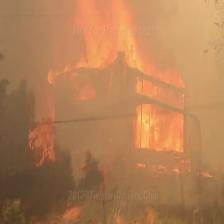fire: (1, 0, 210, 224)
